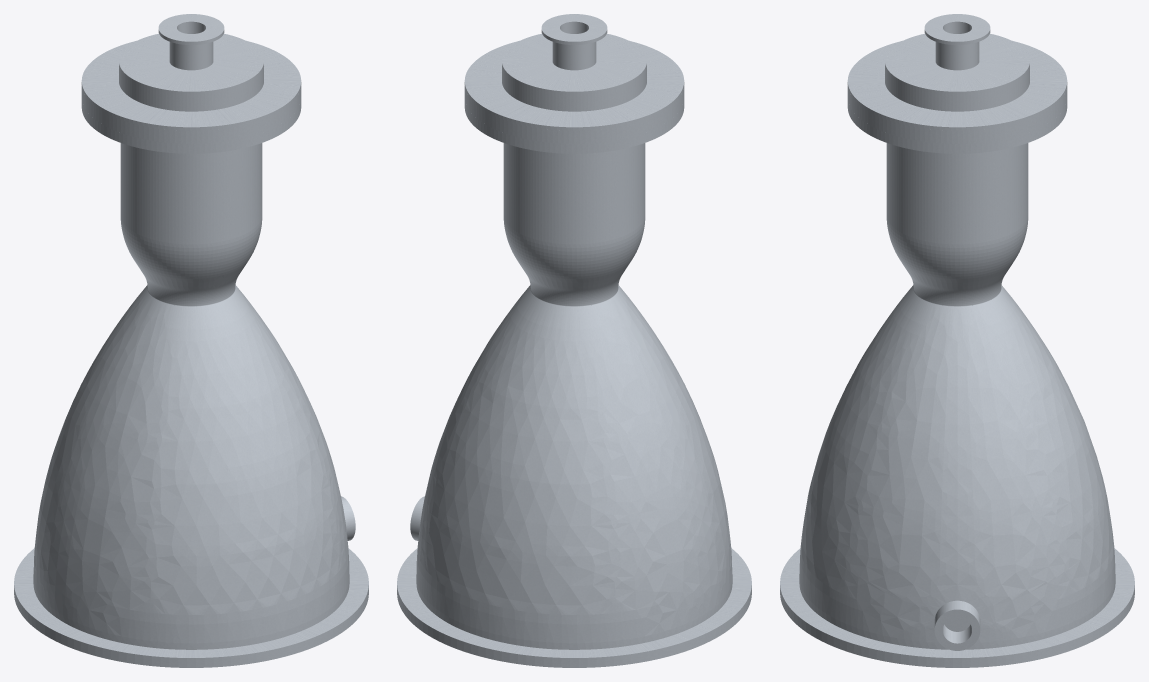
The model's file is jahhar_02.glb.
The picture shows the model from 3 angles, left to right: view 1: azimuth 30°, elevation 25°; view 2: azimuth 150°, elevation 25°; view 3: azimuth 270°, elevation 25°; orthographic projection.
Visible parts, largest first — view 1: Jahhar-0.2 RPA assembly.obj; view 2: Jahhar-0.2 RPA assembly.obj; view 3: Jahhar-0.2 RPA assembly.obj.
Boxes of the visible parts, box(x1,y1,x2,y2) form: Jahhar-0.2 RPA assembly.obj: box(14, 14, 368, 667); Jahhar-0.2 RPA assembly.obj: box(397, 14, 751, 667); Jahhar-0.2 RPA assembly.obj: box(780, 14, 1134, 667).
Bounding box in the file's own units: 0.9701 × 1.7 × 0.9704.
Materials: 1 (1 with a texture image).
